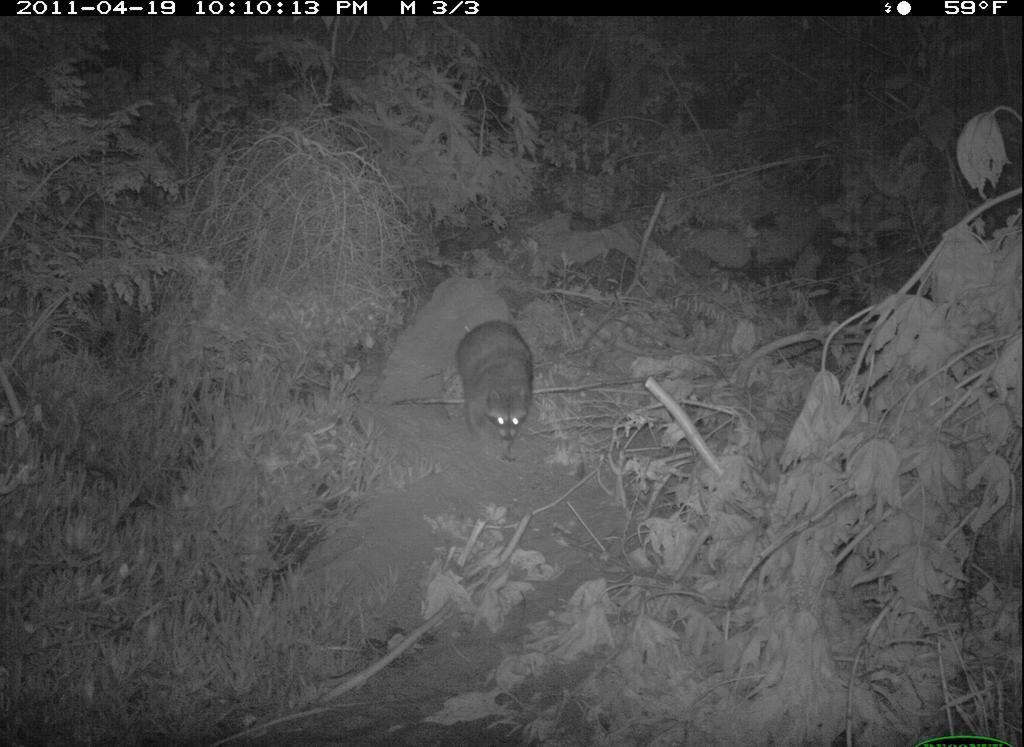raccoon: (443, 308, 546, 457)
